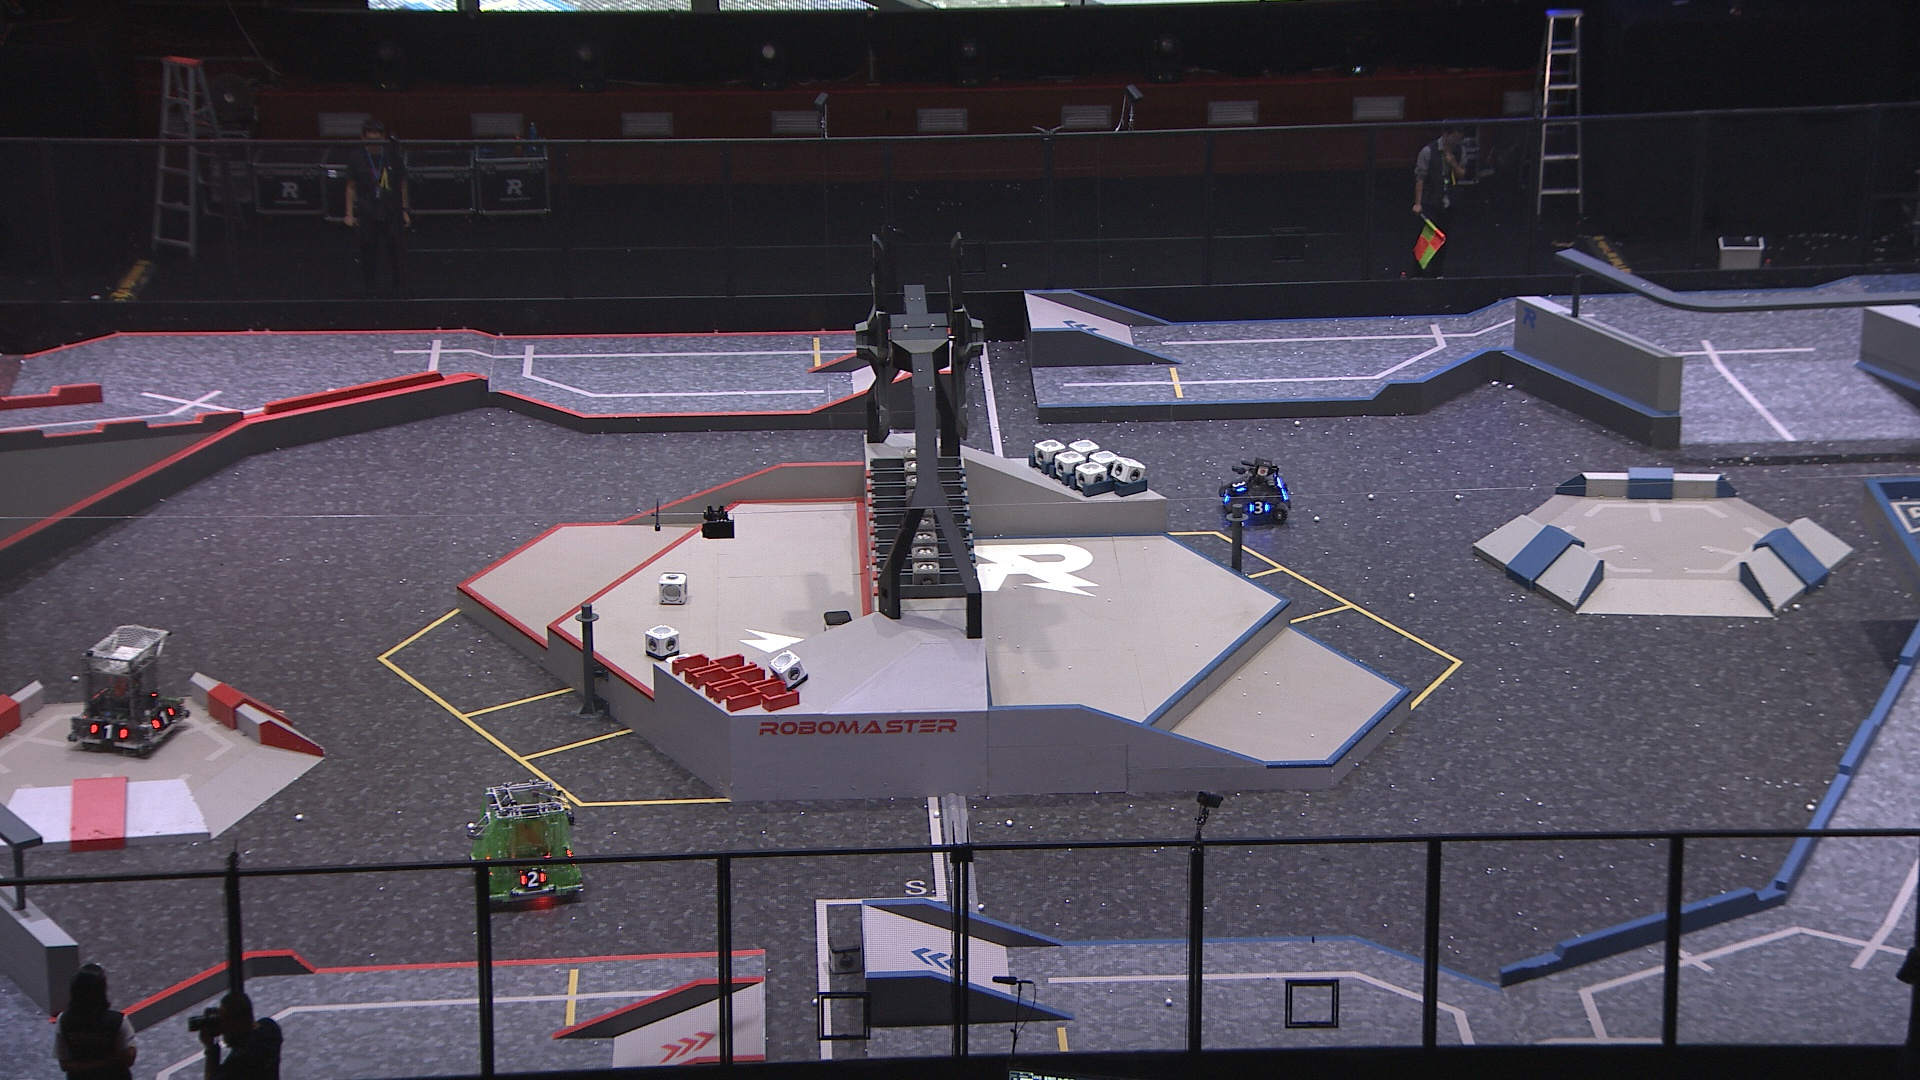armor: (88, 721, 129, 740), (149, 705, 175, 731), (520, 870, 546, 887), (1247, 498, 1269, 514), (1220, 487, 1232, 506), (1229, 479, 1247, 491)
car: (65, 622, 193, 756), (465, 777, 584, 903), (1216, 456, 1294, 524)
